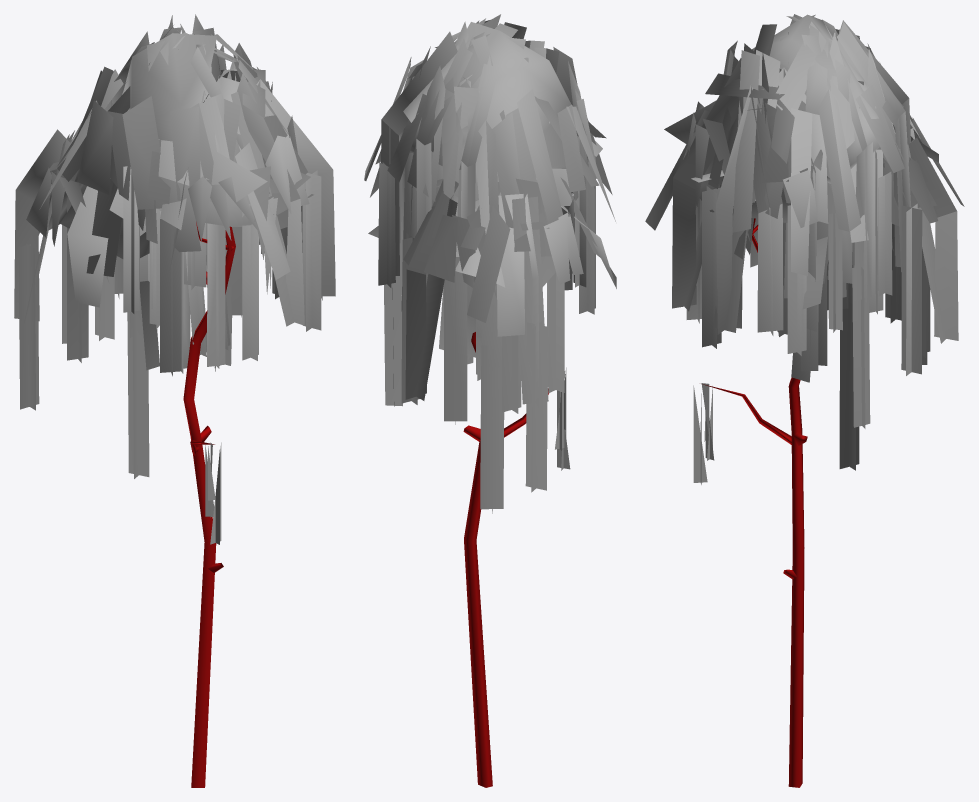
The model's file is env_forest_birch01_lod1.fbx.
3 renders of one model, left to right at view 1: azimuth 30°, elevation 25°; view 2: azimuth 150°, elevation 25°; view 3: azimuth 270°, elevation 25°, orthographic.
Parts seen in each view (by area): view 1: _submesh0; view 2: _submesh0; view 3: _submesh0.
Boxes of the visible parts, box(x1,y1,x2,y2) form: _submesh0: box(14, 14, 335, 787); _submesh0: box(364, 14, 616, 787); _submesh0: box(645, 14, 964, 787).
Bounding box in the file's own units: 48.66 × 138 × 52.55.
